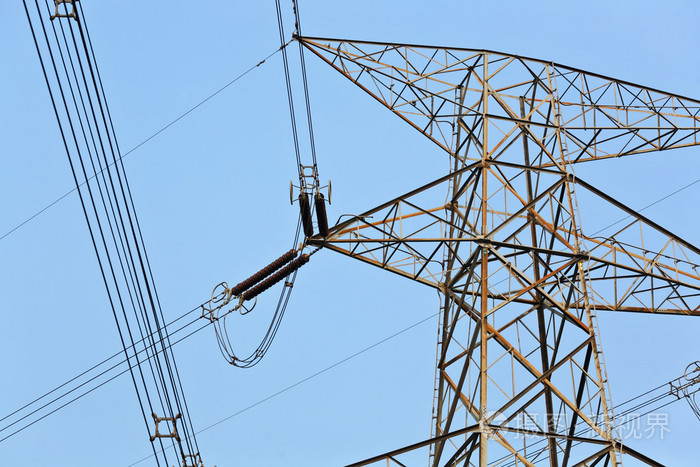insulator: (229, 251, 311, 300), (295, 192, 330, 237)
